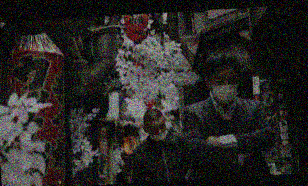mask_weared_incorrect: (149, 120, 169, 143)
with_mask: (211, 73, 240, 104)
